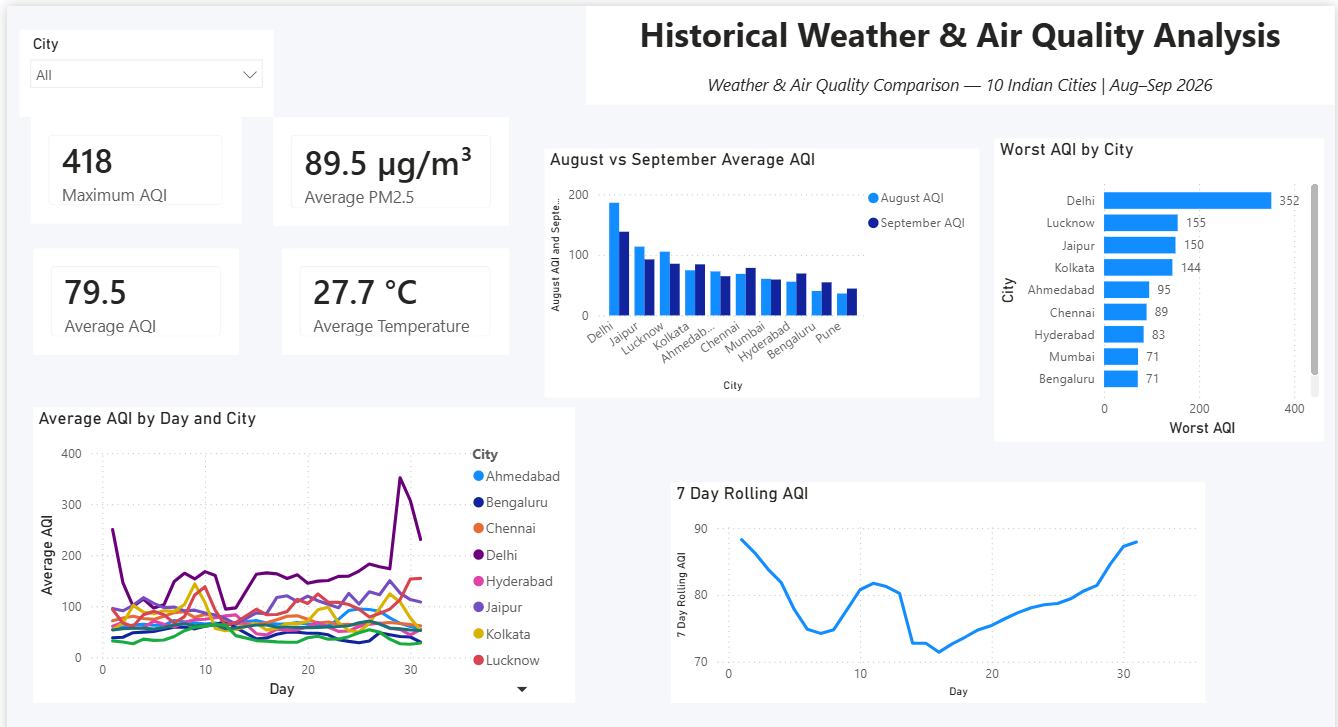

Layout of this report page (visuals, bound fields, positions):
{"tool":"powerbi","page":{"name":"Historical Analysis","canvas":[1280,720],"ordinal":3},"visuals":[{"type":"textbox","box":[557.6,0,721.5,95.4],"z":0},{"type":"cardVisual","fields":{"Data":["air_quality.Maximum AQI"]},"box":[23.2,107.6,203,102.7],"z":1000},{"type":"cardVisual","fields":{"Data":["air_quality.Average PM2.5"]},"box":[256.8,107.6,227.4,105.2],"z":2000},{"type":"cardVisual","fields":{"Data":["weather_data.Average Temperature"]},"box":[265.4,233.6,218.9,102.7],"z":3000},{"type":"cardVisual","fields":{"Data":["air_quality.Average AQI"]},"box":[25.7,233.6,198.1,102.7],"z":4000},{"type":"lineChart","fields":{"Category":["Calendar.Date.Variation.Date Hierarchy.Day"],"Y":["air_quality.Average AQI"],"Series":["Cities.City"]},"box":[35.5,359.5,522.1,284.9],"z":5000},{"type":"lineChart","title":"7 Day Rolling AQI ","fields":{"Category":["Calendar.Date.Variation.Date Hierarchy.Day"],"Y":["air_quality.7 Day Rolling AQI"]},"box":[639.5,468.3,514.8,212.8],"z":6000},{"type":"clusteredColumnChart","title":"August vs September Average AQI","fields":{"Category":["Cities.City"],"Y":["air_quality.August AQI","air_quality.September AQI"]},"box":[518.5,137,419.4,239.7],"z":7000},{"type":"barChart","fields":{"Category":["Cities.City"],"Y":["air_quality.Worst AQI"]},"box":[951.4,127.2,317.9,292.3],"z":8000},{"type":"slicer","fields":{"Values":["Cities.City"]},"box":[12.2,23.2,244.6,84.4],"z":9000}]}

Visuals, with their boxes on the page's 1280x720 design canvas (x1, y1, x2, y2). These are canvas units, not pixel positions in the 1338x727 screenshot, which may show the page scaled, cropped or inside an application window:
textbox: <bbox>558, 0, 1279, 95</bbox>
cardVisual - air_quality.Maximum AQI: <bbox>23, 108, 226, 210</bbox>
cardVisual - air_quality.Average PM2.5: <bbox>257, 108, 484, 213</bbox>
cardVisual - weather_data.Average Temperature: <bbox>265, 234, 484, 336</bbox>
cardVisual - air_quality.Average AQI: <bbox>26, 234, 224, 336</bbox>
lineChart - Calendar.Date.Variation.Date Hierarchy.Day x air_quality.Average AQI: <bbox>36, 360, 558, 644</bbox>
"7 Day Rolling AQI " lineChart: <bbox>640, 468, 1154, 681</bbox>
"August vs September Average AQI" clusteredColumnChart: <bbox>518, 137, 938, 377</bbox>
barChart - Cities.City x air_quality.Worst AQI: <bbox>951, 127, 1269, 420</bbox>
slicer - Cities.City: <bbox>12, 23, 257, 108</bbox>
